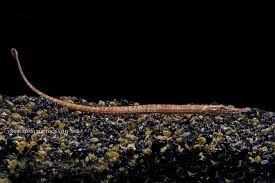Long-Snouted Pipefish: (9, 46, 252, 118)
